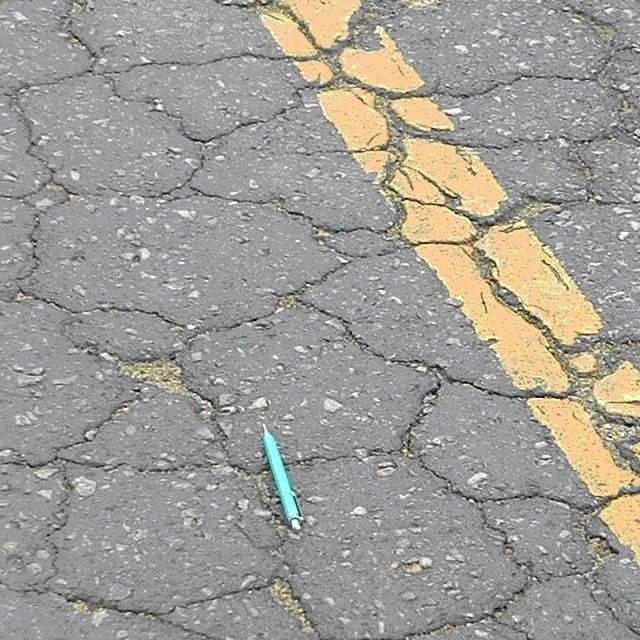retak_kulit_buaya: (0, 0, 496, 640), (420, 0, 640, 468)
